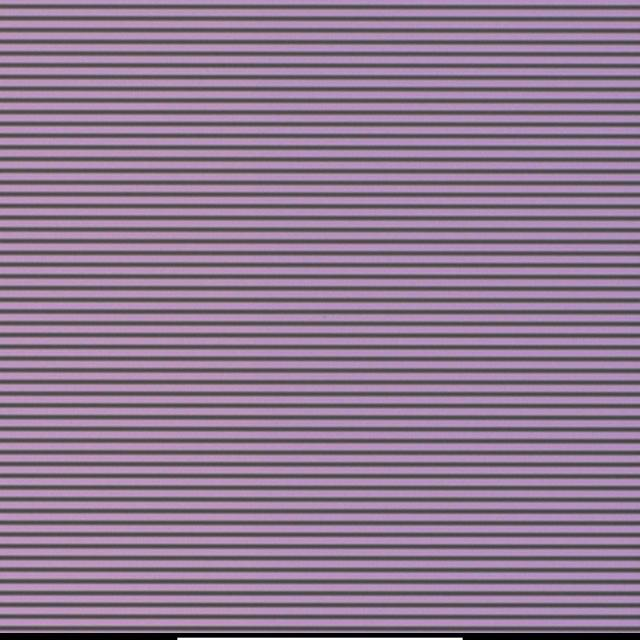nonvisual: (318, 308, 330, 327)
